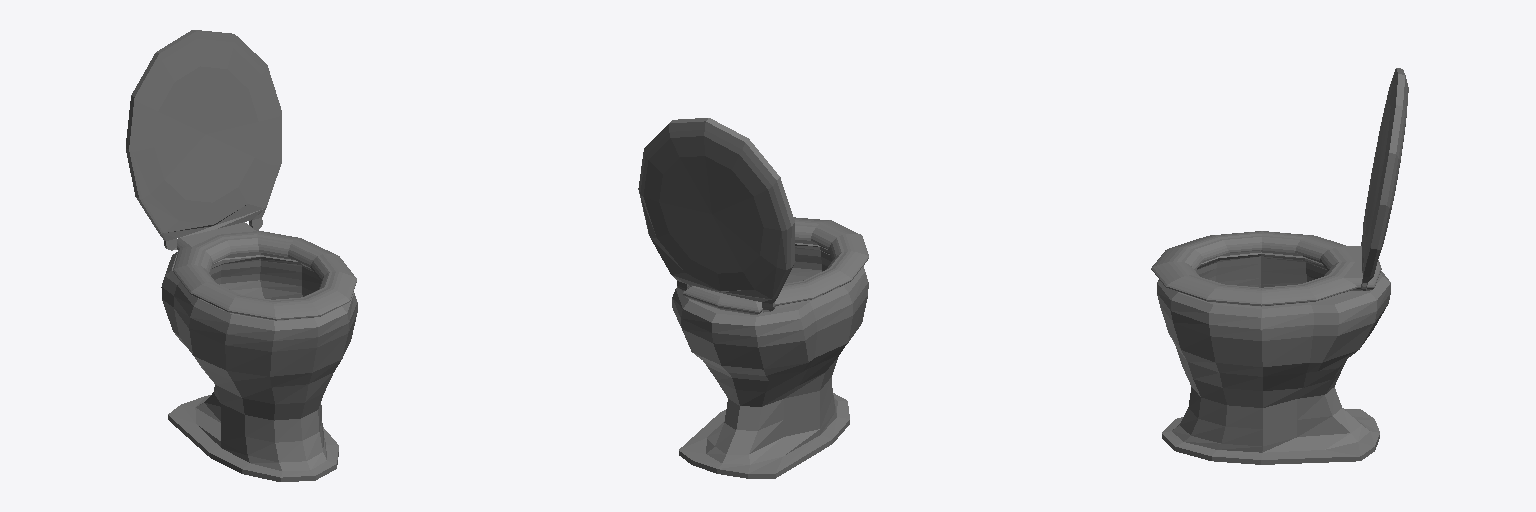
The model's file is Privada.obj.
3 views of the same model, side by side, from view 1: azimuth 30°, elevation 25°; view 2: azimuth 150°, elevation 25°; view 3: azimuth 270°, elevation 25° (orthographic).
Parts seen in each view (by area): view 1: Privada3; view 2: Privada3; view 3: Privada3.
Boxes of the visible parts, <box> form: Privada3: <box>126,30,357,481</box>; Privada3: <box>638,118,868,478</box>; Privada3: <box>1151,68,1408,464</box>.
Bounding box in the file's own units: 1.17 × 2.63 × 1.69.